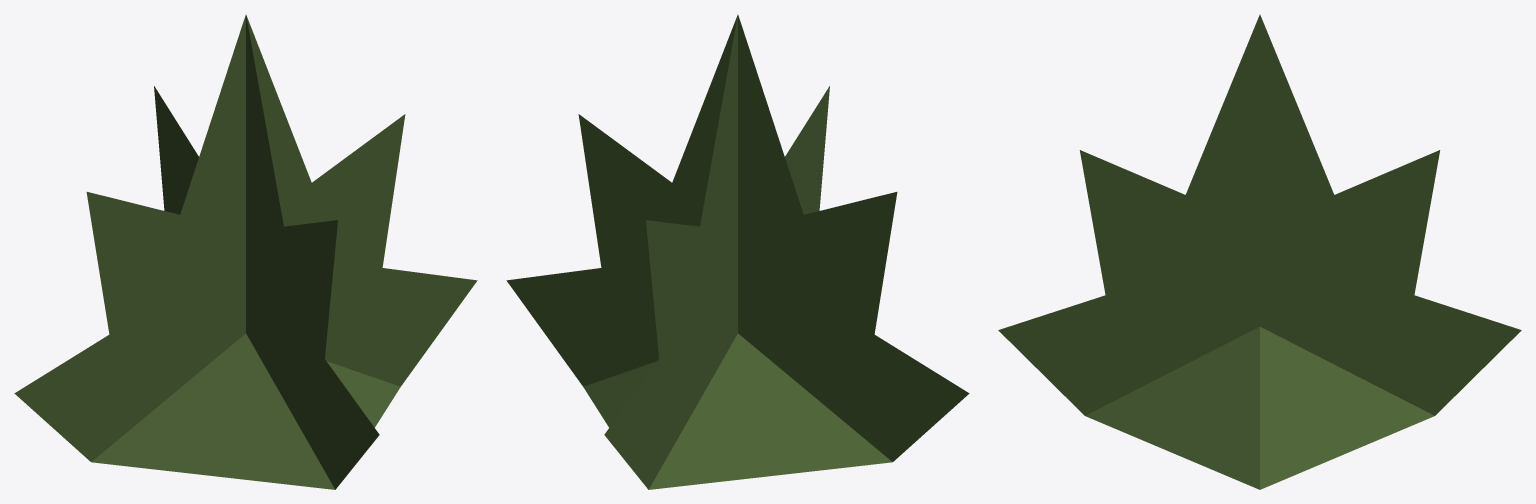
File: gras_matte.glb
3 renders of one model, left to right at view 1: azimuth 30°, elevation 25°; view 2: azimuth 150°, elevation 25°; view 3: azimuth 270°, elevation 25°, orthographic. The views are drawn at different scales.
Parts seen in each view (by area): view 1: gras_matte; view 2: gras_matte; view 3: gras_matte.
Part boxes in pixels (x1=…): gras_matte: x1=14, y1=14, x2=477, y2=489; gras_matte: x1=506, y1=14, x2=969, y2=489; gras_matte: x1=998, y1=14, x2=1521, y2=489.
Size of the model in its own units: 0.2126 by 0.18 by 0.2126.
